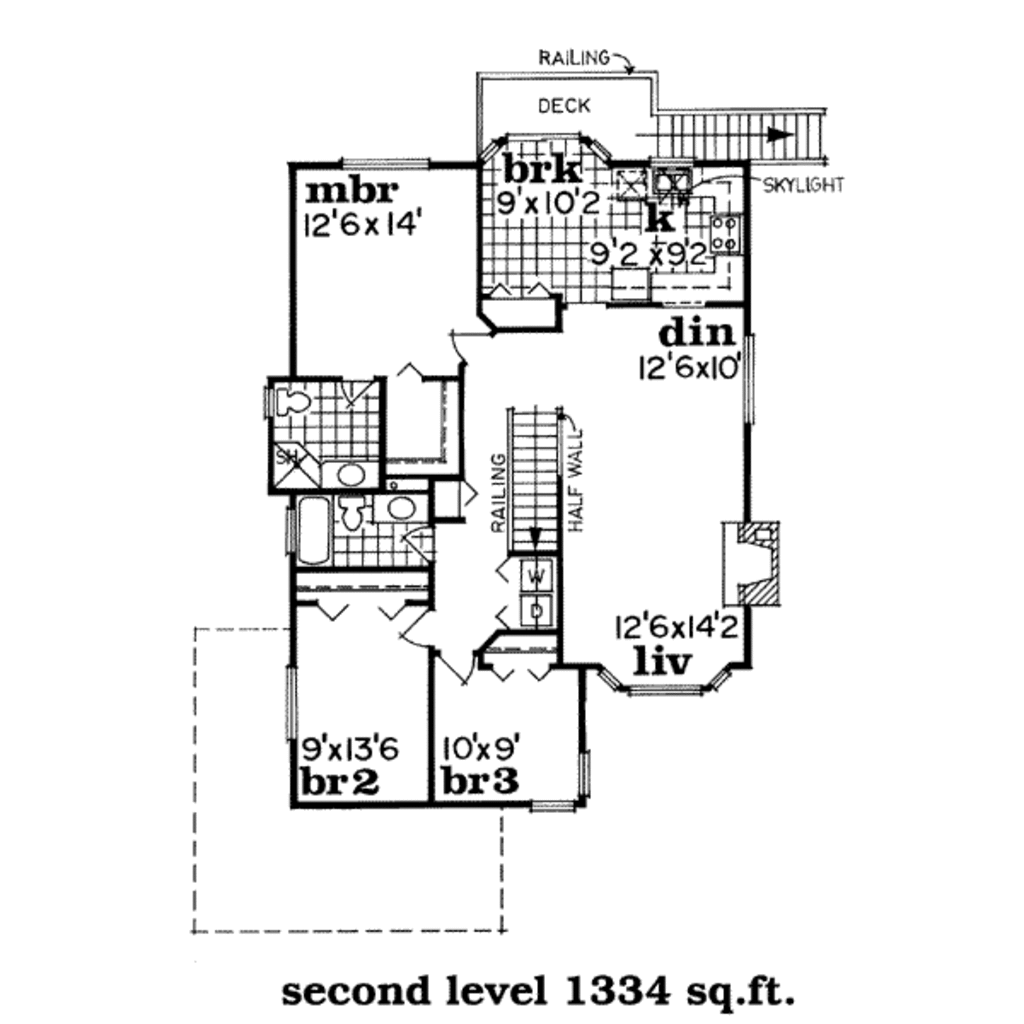door: (441, 319, 497, 373), (388, 603, 439, 652), (427, 645, 484, 687), (321, 373, 376, 401)
large_sink: (276, 386, 315, 420), (337, 493, 366, 535)
small_sink: (373, 495, 430, 521), (322, 463, 382, 486)
stairs: (655, 92, 844, 179), (498, 400, 587, 559)
tub: (288, 483, 332, 590)
window: (592, 665, 745, 702), (336, 145, 430, 185), (731, 334, 762, 431), (278, 663, 311, 746), (517, 791, 581, 821), (569, 743, 599, 801)
